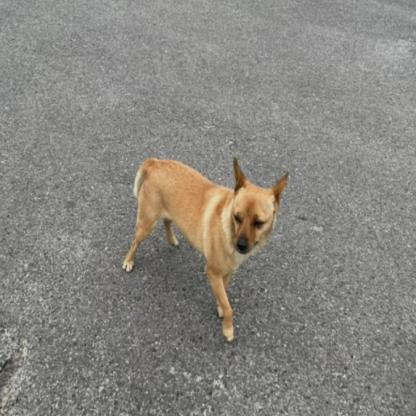dog: (121, 143, 290, 348)
